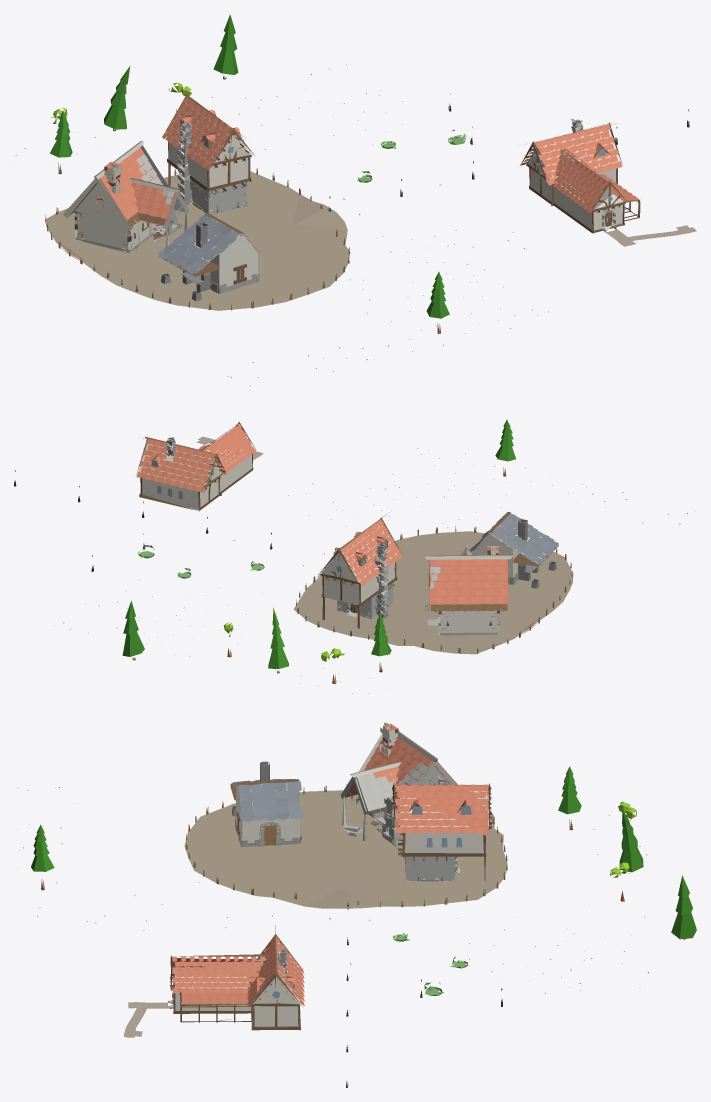
File: chunk_0_1_lod2.glb
The picture shows the model from 3 angles, top to bottom: view 1: azimuth 30°, elevation 25°; view 2: azimuth 150°, elevation 25°; view 3: azimuth 270°, elevation 25°; orthographic projection. The views are drawn at different scales.
Visible parts, largest first — view 1: Batched_chunk_0_1_lod2; view 2: Batched_chunk_0_1_lod2; view 3: Batched_chunk_0_1_lod2.
Part boxes in pixels (x1,y1,x2,y2): Batched_chunk_0_1_lod2: [15, 14, 696, 390]; Batched_chunk_0_1_lod2: [14, 419, 687, 693]; Batched_chunk_0_1_lod2: [17, 722, 696, 1087].
Size of the model in its own units: 99.84 by 14.19 by 96.03.
34 materials, 2 textured.
